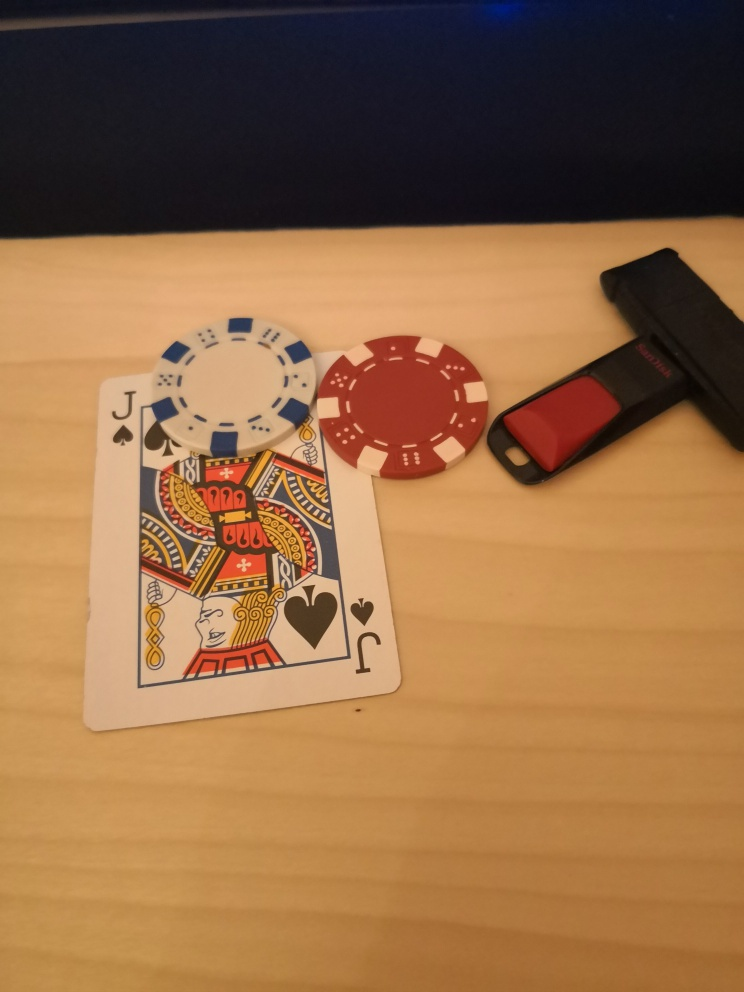jack: (84, 373, 401, 734)
